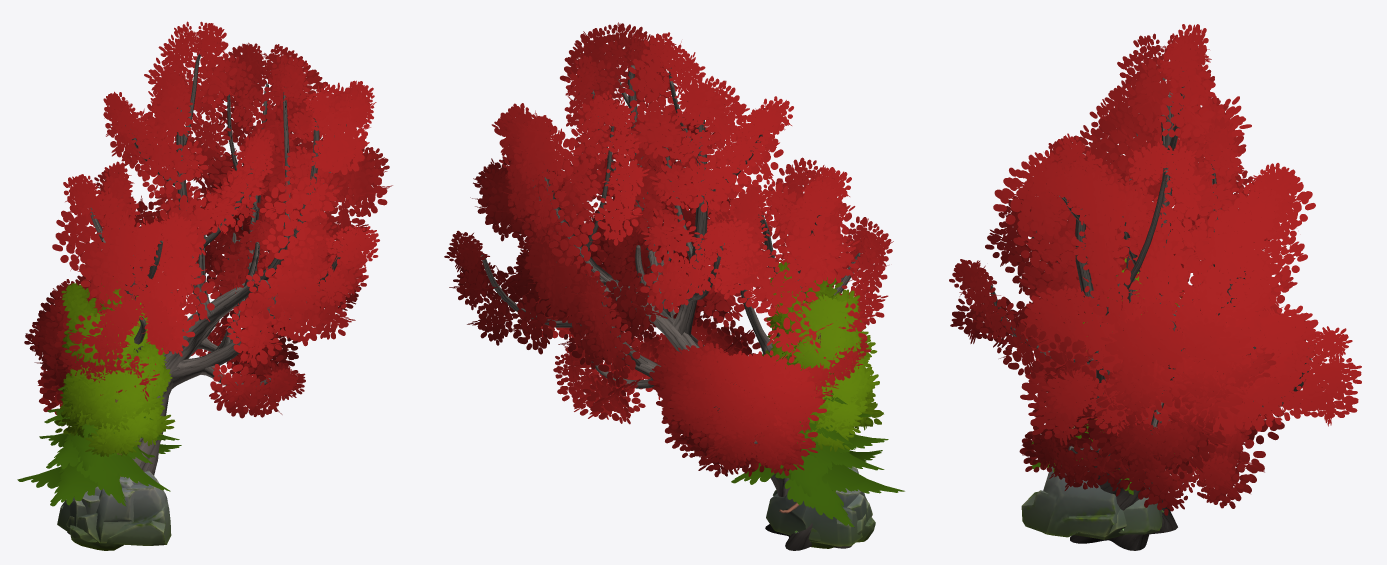
File: StylizedNatureShowcase.glb
3 renders of one model, left to right at view 1: azimuth 30°, elevation 25°; view 2: azimuth 150°, elevation 25°; view 3: azimuth 270°, elevation 25°, orthographic. The views are drawn at different scales.
Parts seen in each view (by area): view 1: TwistedTree_1, CommonTree_3, Pine_2, CommonTree_LOD0, Rock_Medium_3, Rock_Medium_1, Rock_Medium_2; view 2: TwistedTree_1, Pine_2, CommonTree_3, CommonTree_LOD0, Rock_Medium_2, Rock_Medium_3; view 3: TwistedTree_1, Rock_Medium_3, Rock_Medium_2.
Part boxes in pixels (box(x1,y1,x2,y2)): TwistedTree_1: box(24, 21, 392, 534); CommonTree_3: box(61, 283, 172, 454); Pine_2: box(17, 355, 181, 506); CommonTree_LOD0: box(54, 341, 175, 456); Rock_Medium_3: box(70, 470, 171, 550); Rock_Medium_1: box(66, 476, 134, 543); Rock_Medium_2: box(57, 491, 99, 533); TwistedTree_1: box(444, 22, 893, 550); Pine_2: box(731, 350, 904, 527); CommonTree_3: box(766, 262, 877, 432); CommonTree_LOD0: box(761, 332, 883, 451); Rock_Medium_2: box(766, 488, 862, 546); Rock_Medium_3: box(773, 490, 875, 542); TwistedTree_1: box(949, 24, 1361, 550); Rock_Medium_3: box(1021, 465, 1120, 537); Rock_Medium_2: box(1118, 497, 1162, 534).
Size of what is drawn, in the model's own units: 14.23 by 16.84 by 11.55.
Materials: 9 (9 with a texture image).
